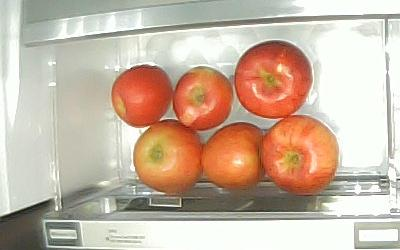apple: (234, 40, 312, 118), (263, 114, 338, 195), (133, 119, 200, 191), (204, 122, 265, 189), (111, 63, 172, 127), (173, 66, 233, 131)
